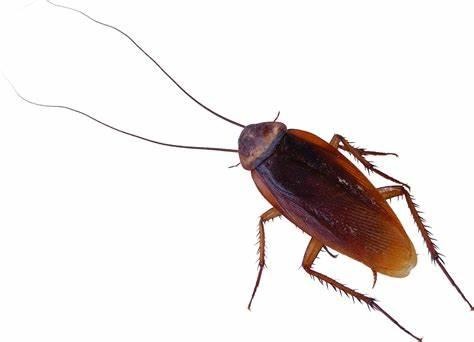cockroach: (231, 116, 437, 303)
